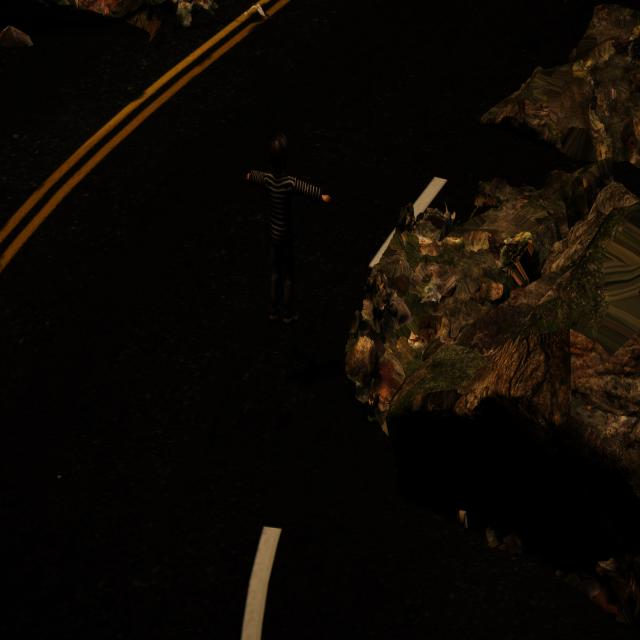Human: (243, 126, 340, 344)
